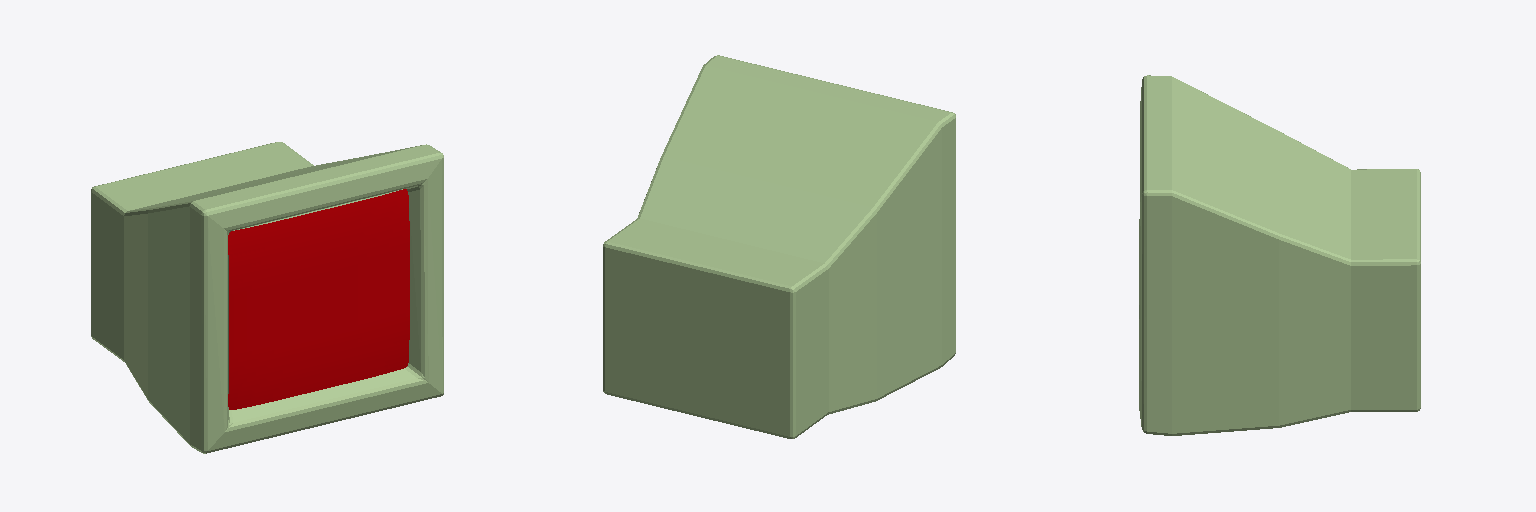
File: computer2.obj
The picture shows the model from 3 angles: view 1: azimuth 30°, elevation 25°; view 2: azimuth 150°, elevation 25°; view 3: azimuth 270°, elevation 25°; orthographic projection.
Visible parts, largest first — view 1: Cube; view 2: Cube; view 3: Cube.
Part boxes in pixels (x1,y1,x2,y2): Cube: (91, 142, 443, 453); Cube: (603, 55, 955, 438); Cube: (1139, 75, 1420, 435).
Size of the model in its own units: 5.12 by 4.98 by 5.17.